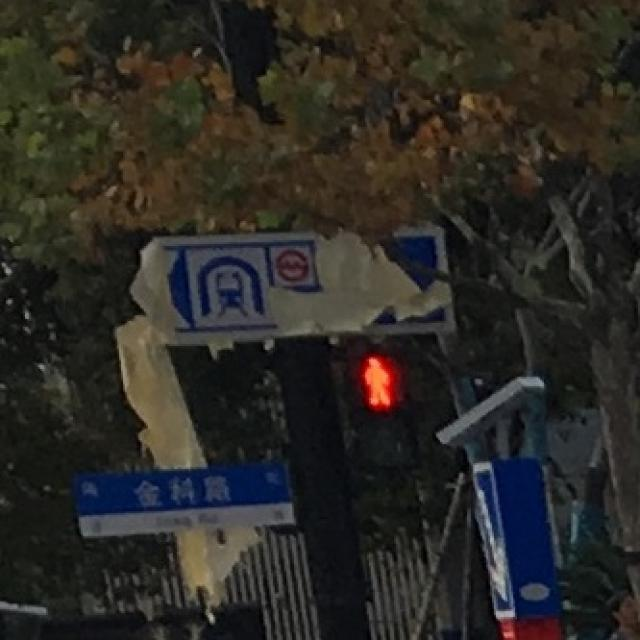red-crossing: (348, 347, 406, 415)
